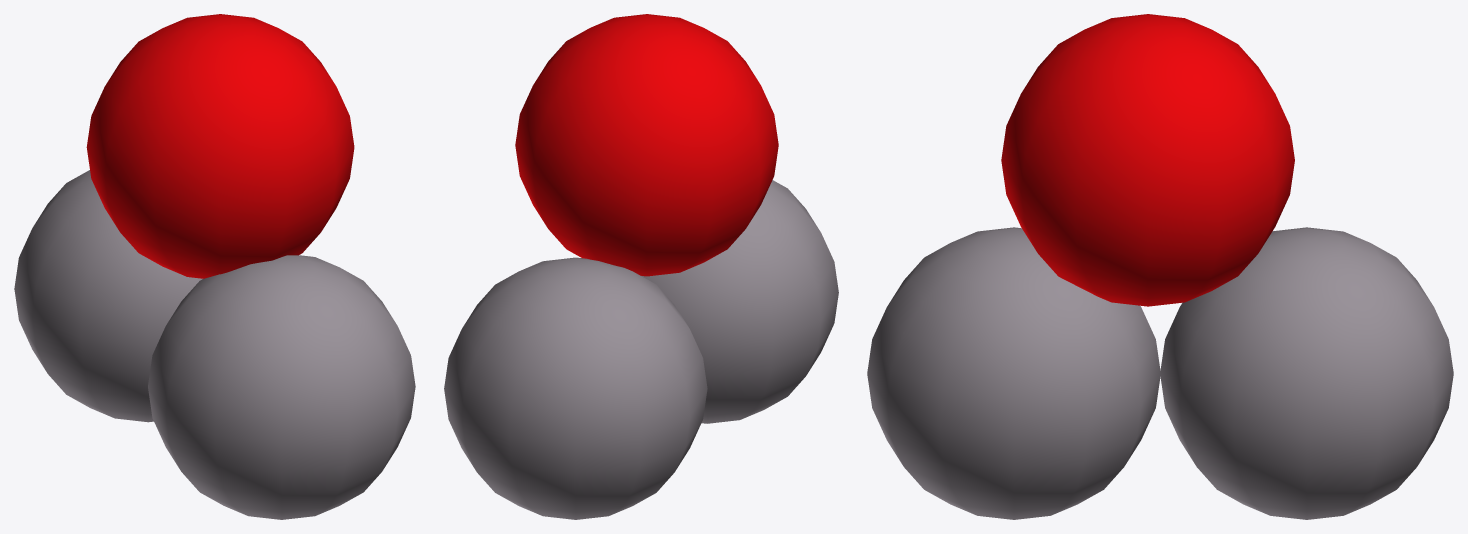
File: bomblet.glb
The picture shows the model from 3 angles, left to right: view 1: azimuth 30°, elevation 25°; view 2: azimuth 150°, elevation 25°; view 3: azimuth 270°, elevation 25°; orthographic projection. The views are drawn at different scales.
Parts seen in each view (by area): view 1: Sphere.002; view 2: Sphere.002; view 3: Sphere.002.
Part boxes in pixels (bbox=[...]): Sphere.002: bbox=[14, 14, 415, 519]; Sphere.002: bbox=[444, 14, 838, 519]; Sphere.002: bbox=[867, 14, 1453, 519].
Size of the model in its own units: 3.48 by 6.27 by 6.95.
